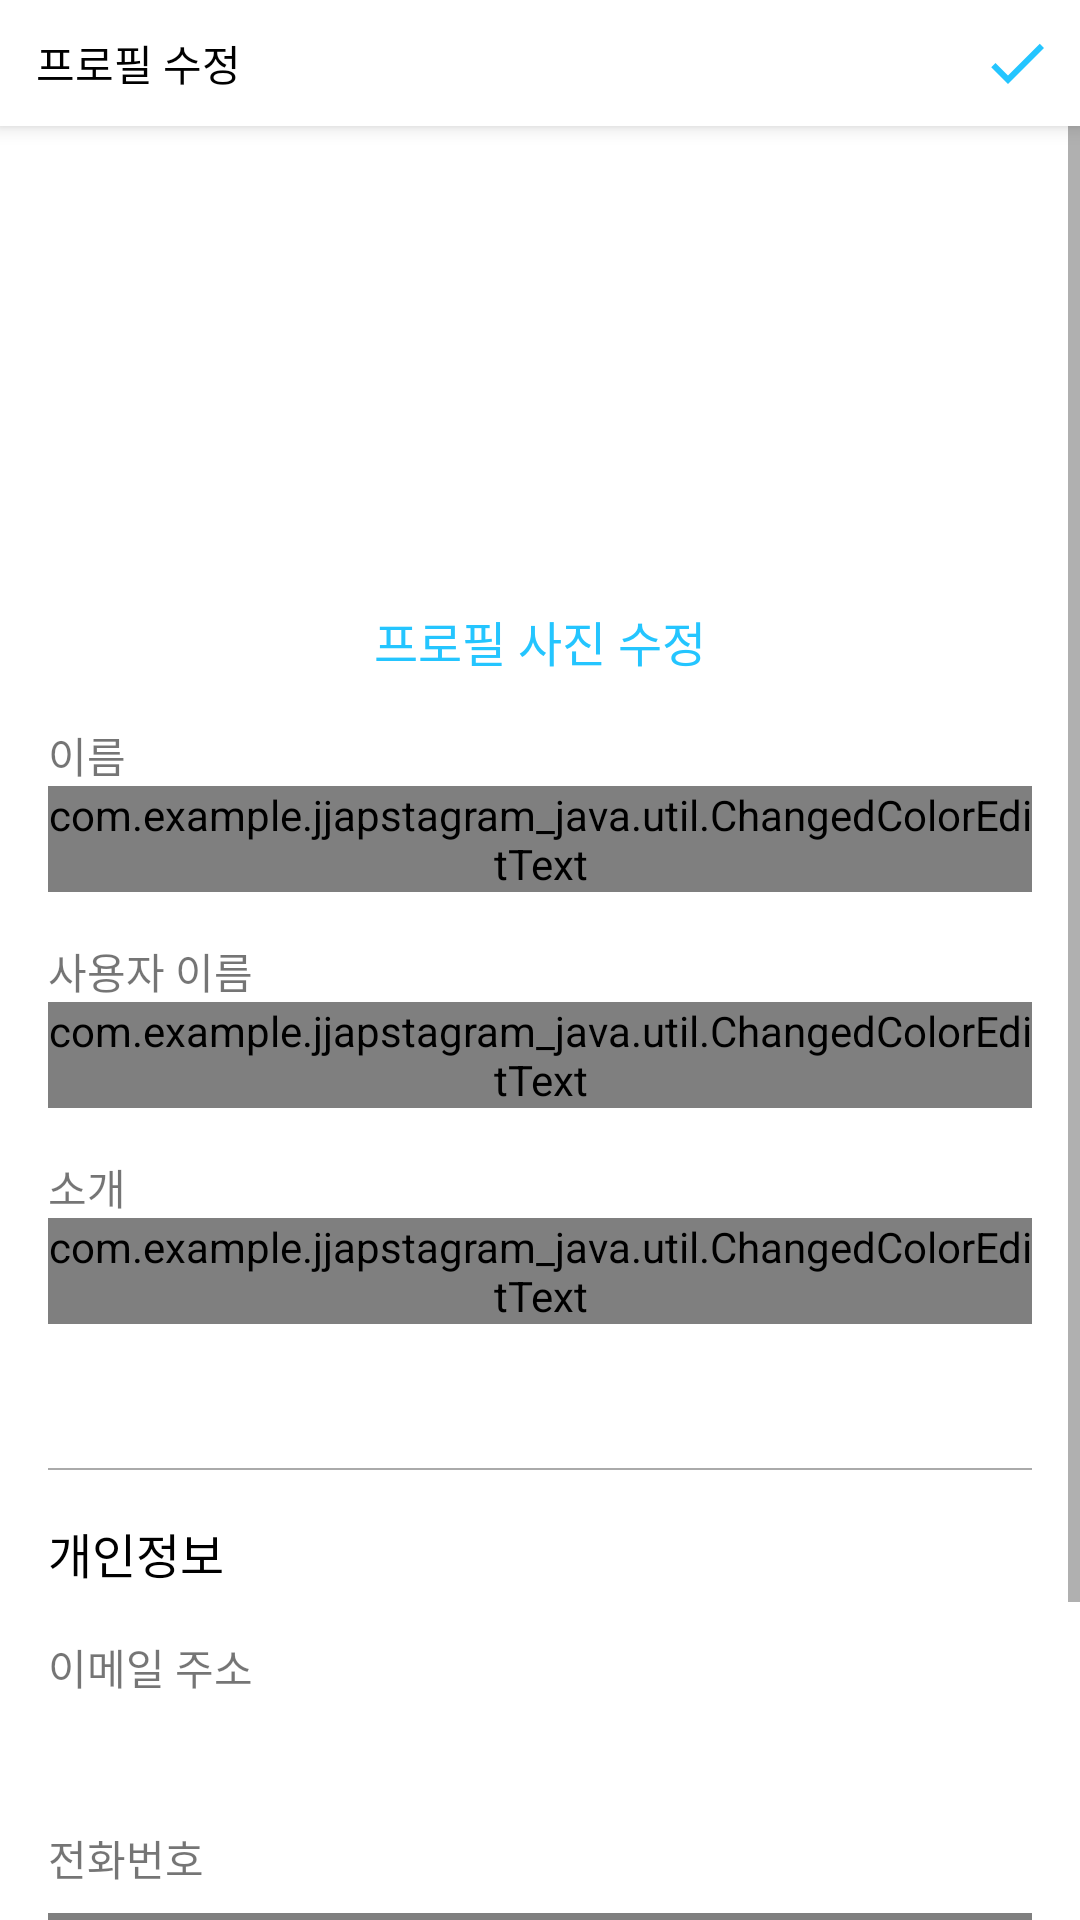

Locate icon controls on the screen. Image size 1080px x 1920px, boxes as (x1, y1, x2, y2).
check: (991, 44, 1044, 84)
